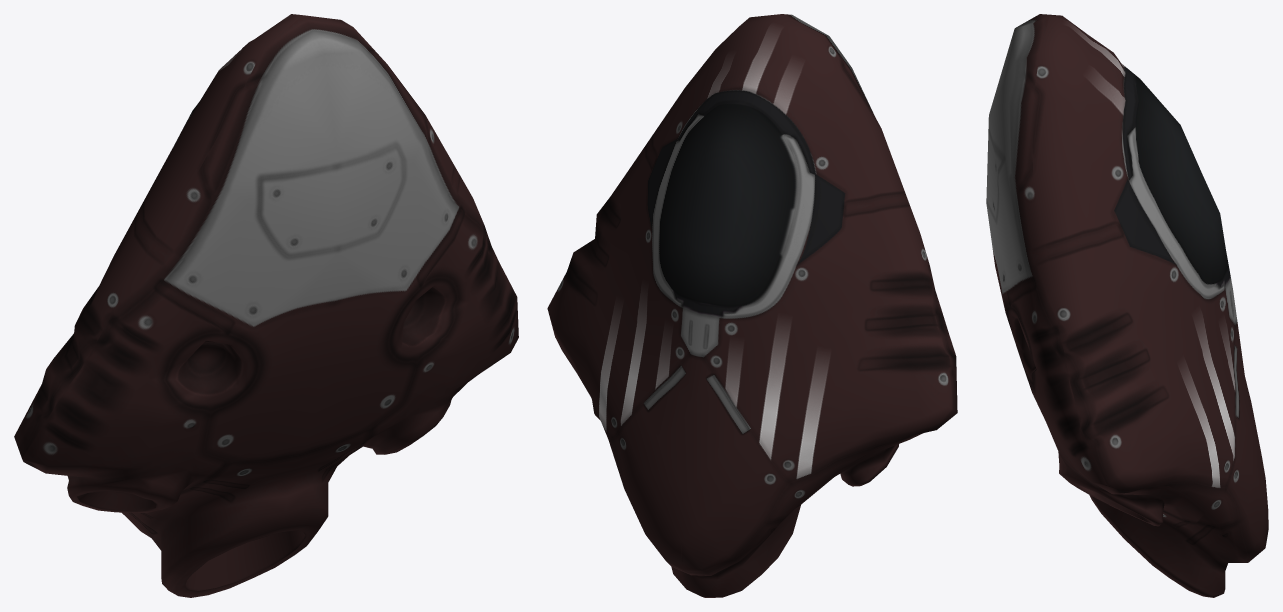
The model's file is spaceship_3.fbx.
3 renders of one model, left to right at view 1: azimuth 30°, elevation 25°; view 2: azimuth 150°, elevation 25°; view 3: azimuth 270°, elevation 25°, orthographic. The views are drawn at different scales.
Parts seen in each view (by area): view 1: Ship; view 2: Ship; view 3: Ship.
Boxes of the visible parts, x1,y1,x2,y2 form: Ship: (14, 14, 518, 597); Ship: (547, 14, 957, 597); Ship: (986, 14, 1268, 597).
Size of the model in its own units: 10.2 by 12.74 by 5.66.
